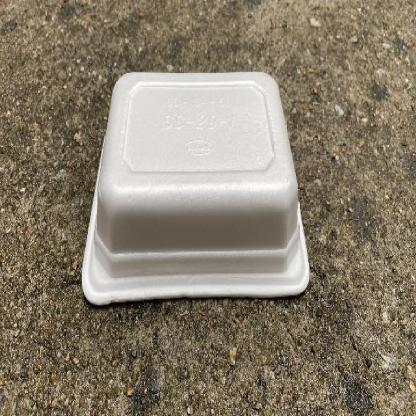Glass Cup: (80, 70, 310, 304), (81, 72, 310, 306)
